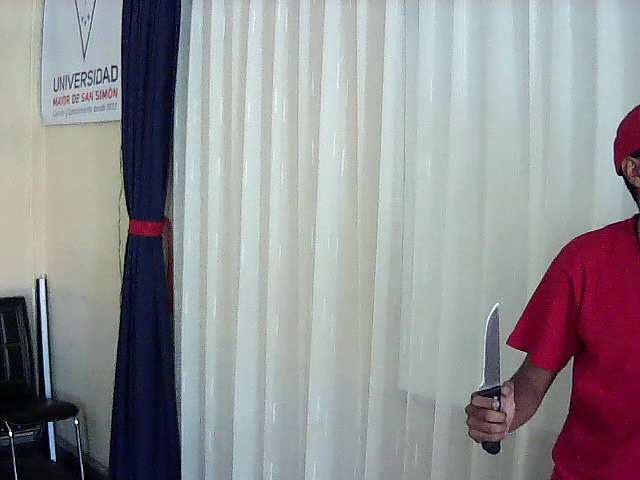cuchillo: (467, 293, 520, 420)
